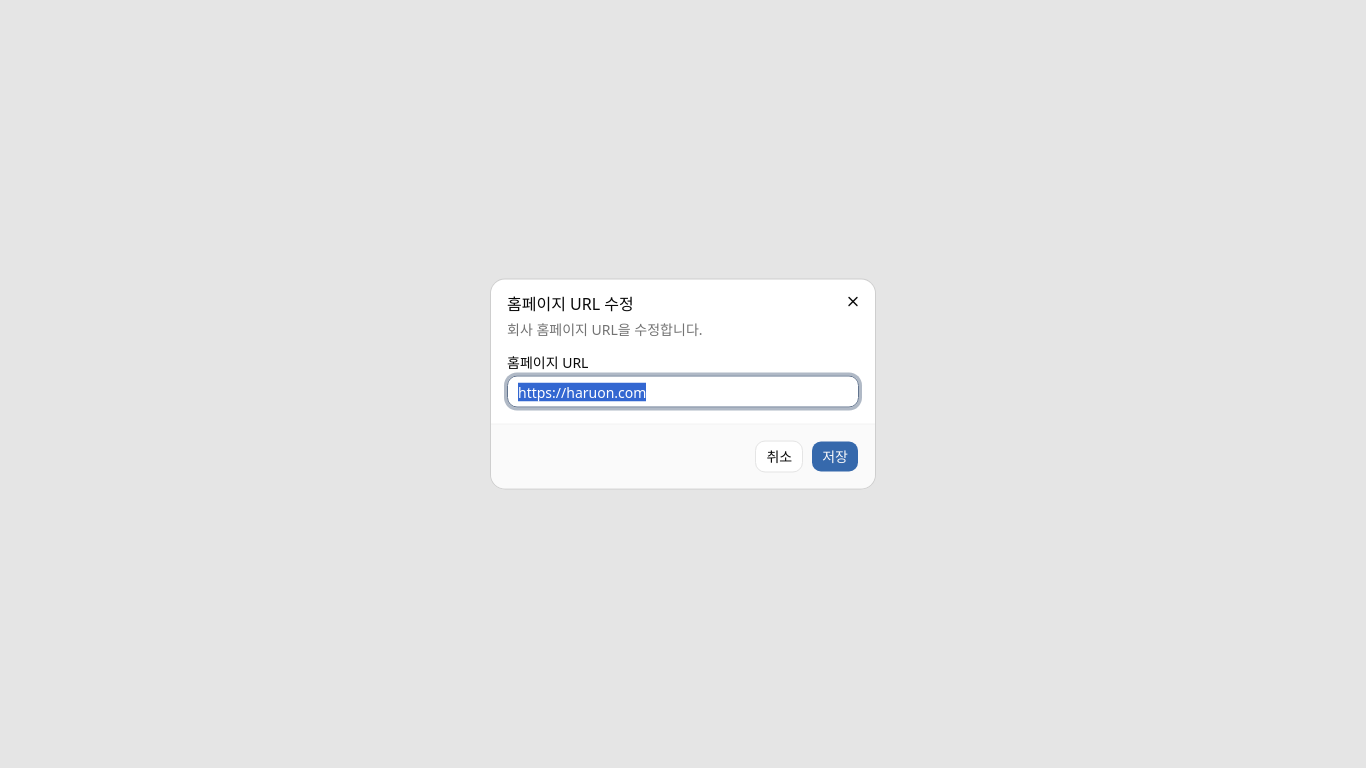
Test: CompanyHomePageEditDialog › 값을 비우면 zod 필수 검증 에러를 노출한다
This screenshot has width=1366, height=768.
Clear the field labelled "홈페이지 URL": (683, 392) x1=507 y1=376 x2=859 y2=408
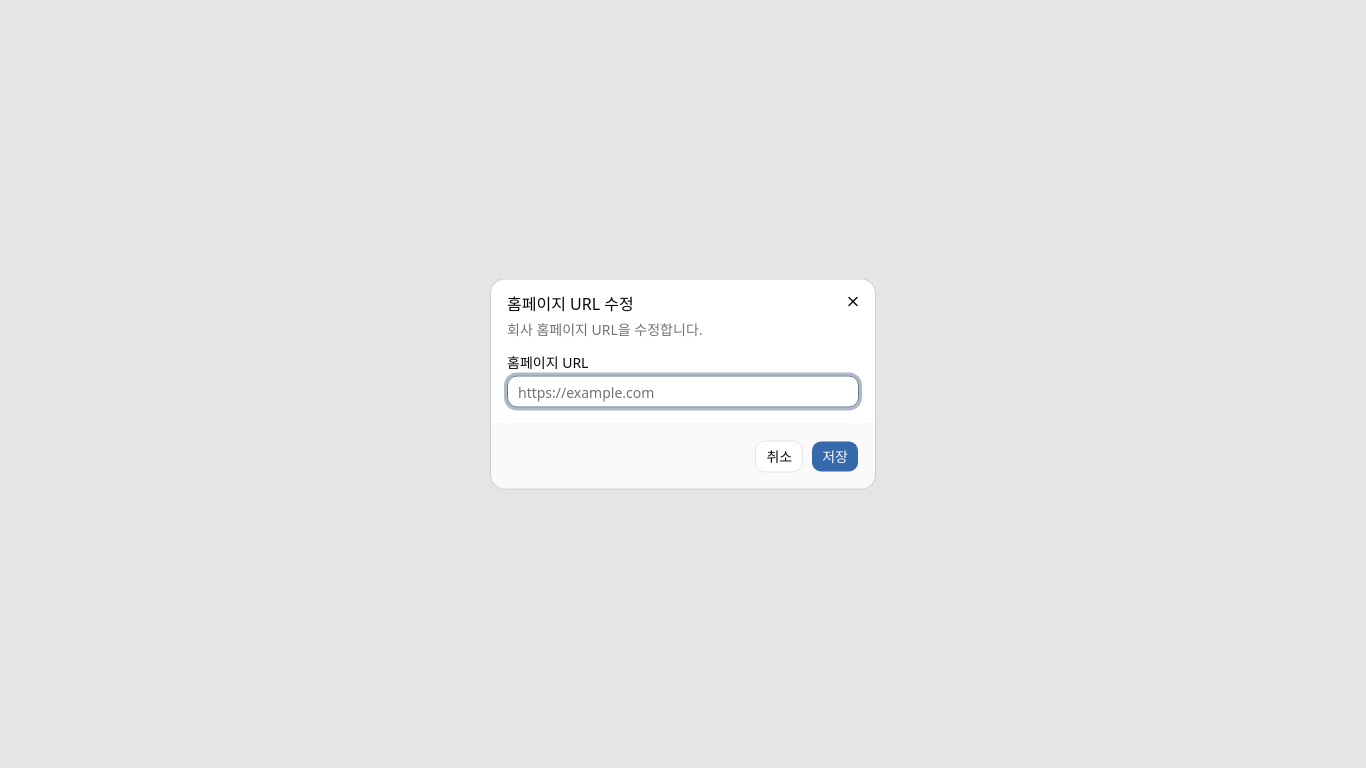
Click the button "저장": (835, 456) x1=811 y1=440 x2=859 y2=472
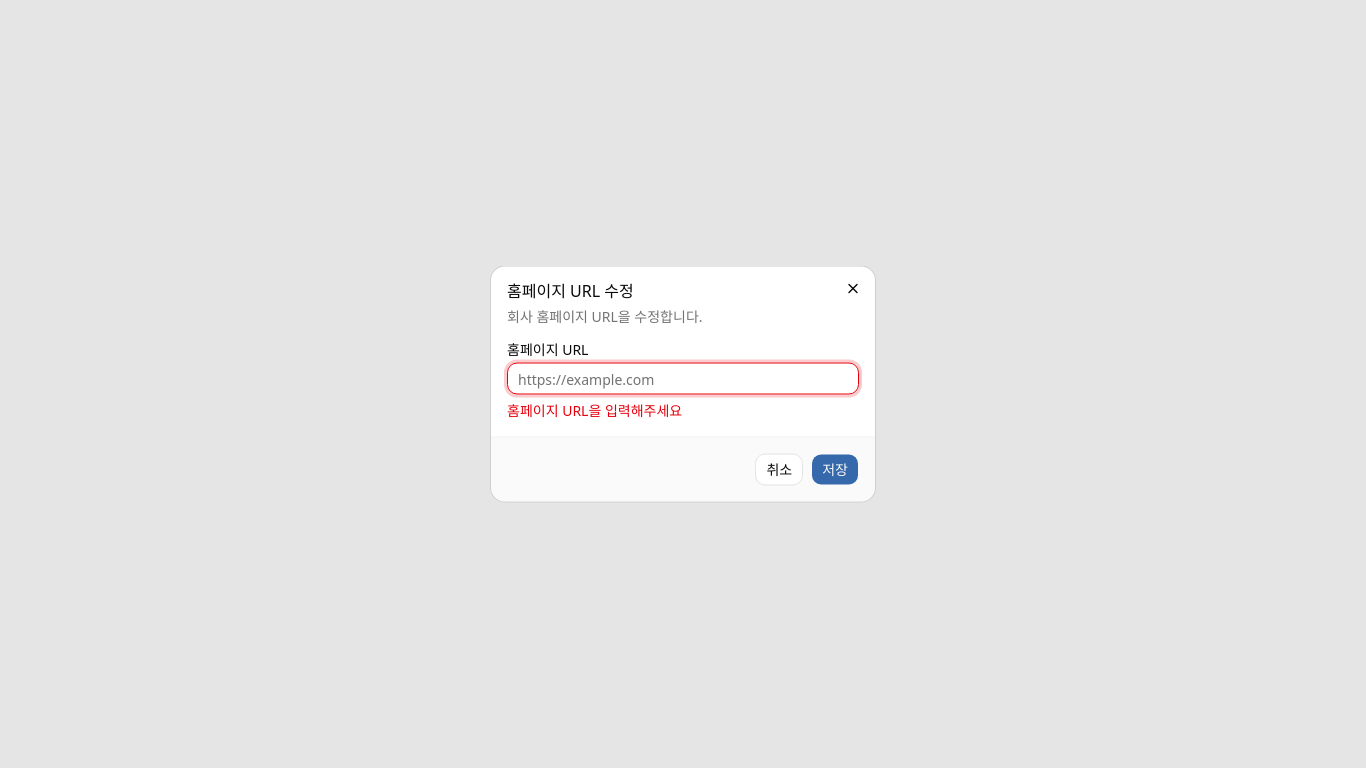
Result: the text "홈페이지 URL을 입력해주세요" is shown at x1=507 y1=400 x2=682 y2=420
